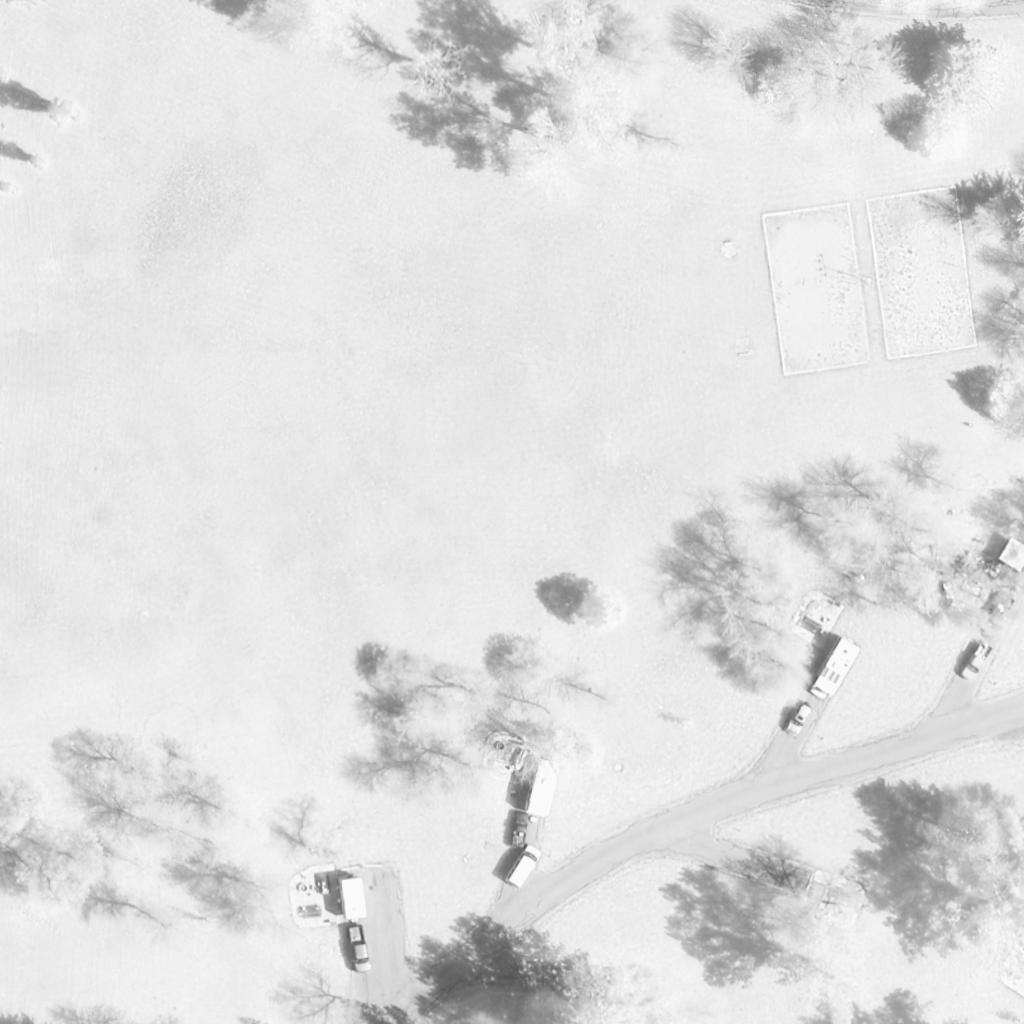vehicle: (811, 635, 861, 703), (526, 757, 560, 825), (504, 844, 544, 888), (980, 602, 1016, 644), (337, 876, 367, 922), (962, 641, 992, 681), (347, 926, 369, 970), (787, 703, 813, 737), (509, 812, 531, 848)
